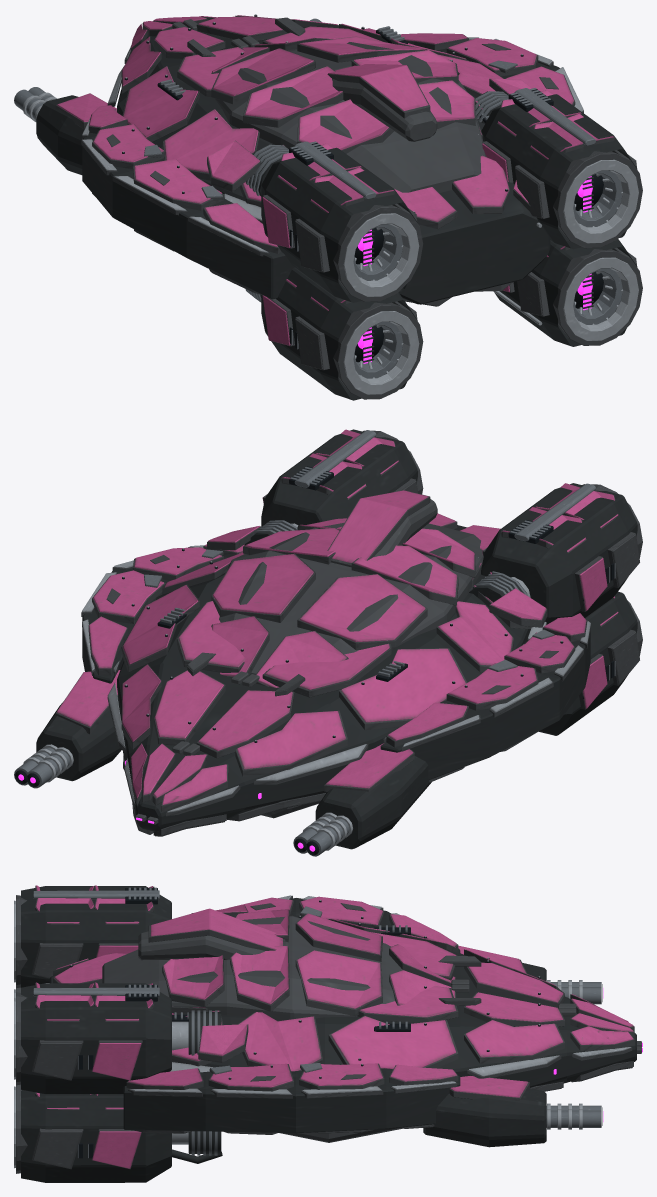
Rendered from overlord.glb.
3 renders of one model, top to bottom at view 1: azimuth 30°, elevation 25°; view 2: azimuth 150°, elevation 25°; view 3: azimuth 270°, elevation 25°, orthographic. The views are drawn at different scales.
Parts seen in each view (by area): view 1: Overlord.001; view 2: Overlord.001; view 3: Overlord.001.
Part boxes in pixels (bbox=[...]): Overlord.001: bbox=[14, 14, 642, 400]; Overlord.001: bbox=[14, 429, 642, 856]; Overlord.001: bbox=[14, 885, 642, 1182].
Bounding box in the file's own units: 9.81 × 4.67 × 13.09.
Materials: 7 (7 with a texture image).
